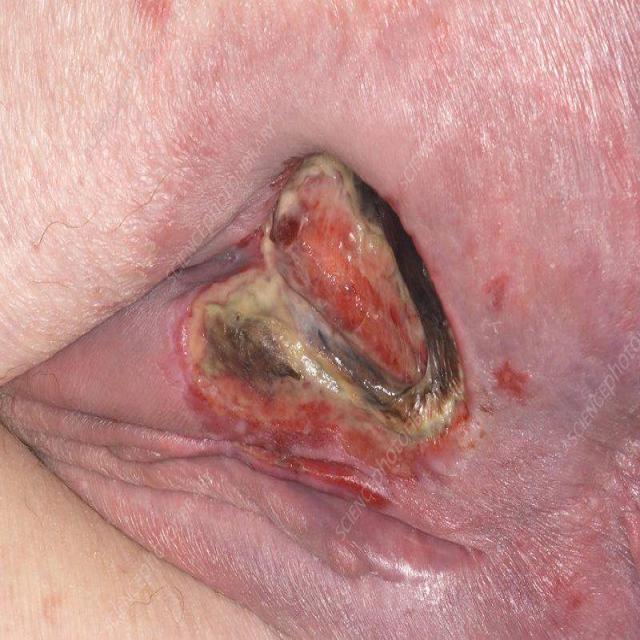Unstageable: (180, 154, 465, 501)
